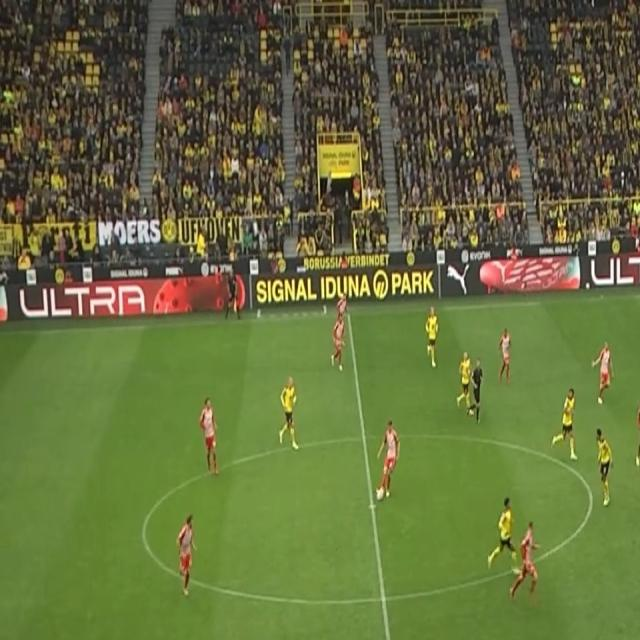ball: (376, 486, 384, 500)
